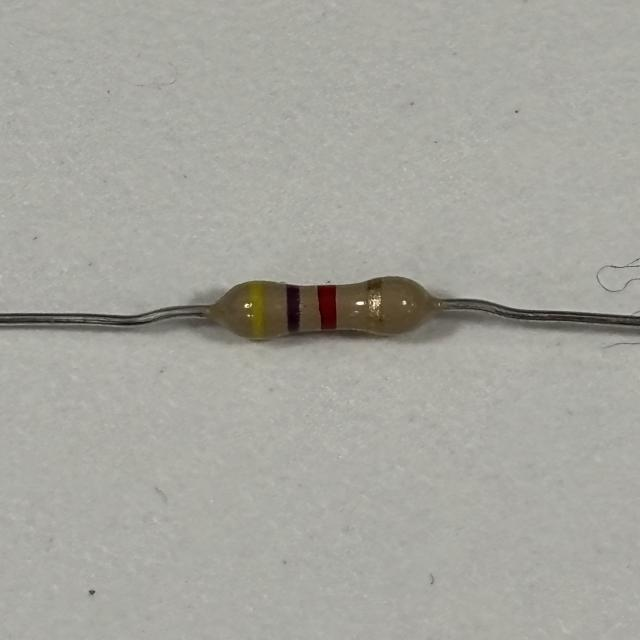resistor: (228, 274, 422, 344)
